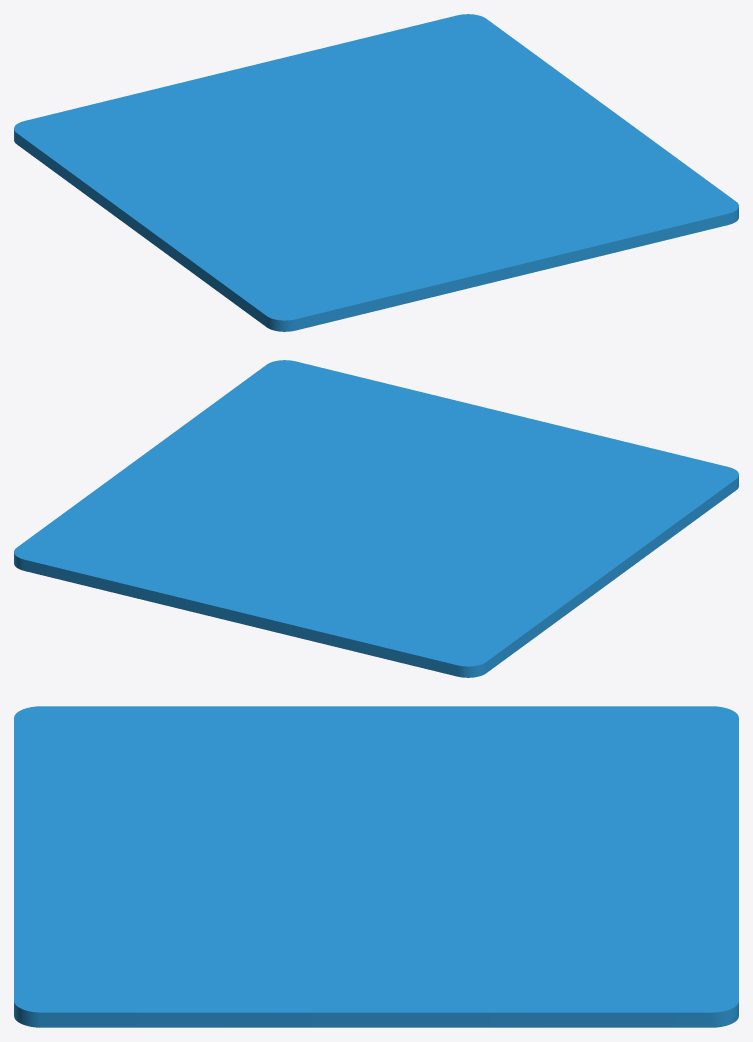
The model's file is floor1.fbx.
3 views of the same model, one above another, from view 1: azimuth 30°, elevation 25°; view 2: azimuth 150°, elevation 25°; view 3: azimuth 270°, elevation 25° (orthographic). The views are drawn at different scales.
Visible parts, largest first — view 1: Cube; view 2: Cube; view 3: Cube.
Part boxes in pixels (left/top/right/bottom): Cube: left=14, top=14, right=738, bottom=331; Cube: left=14, top=360, right=738, bottom=677; Cube: left=14, top=706, right=738, bottom=1027.
Bounding box in the file's own units: 13 × 0.3 × 13.
